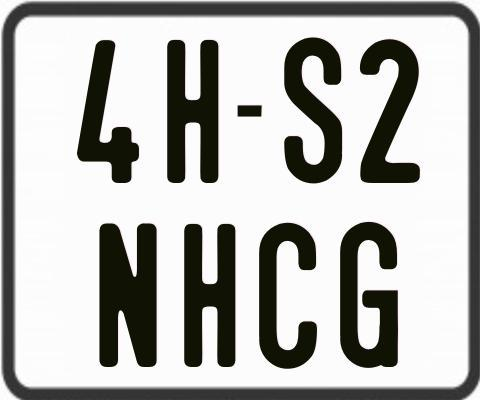2: (360, 38, 425, 183)
4: (77, 39, 145, 183)
C: (257, 222, 319, 373)
G: (340, 221, 400, 371)
H: (165, 38, 222, 185), (183, 221, 239, 369)
N: (96, 220, 155, 368)
S: (282, 35, 345, 183)
